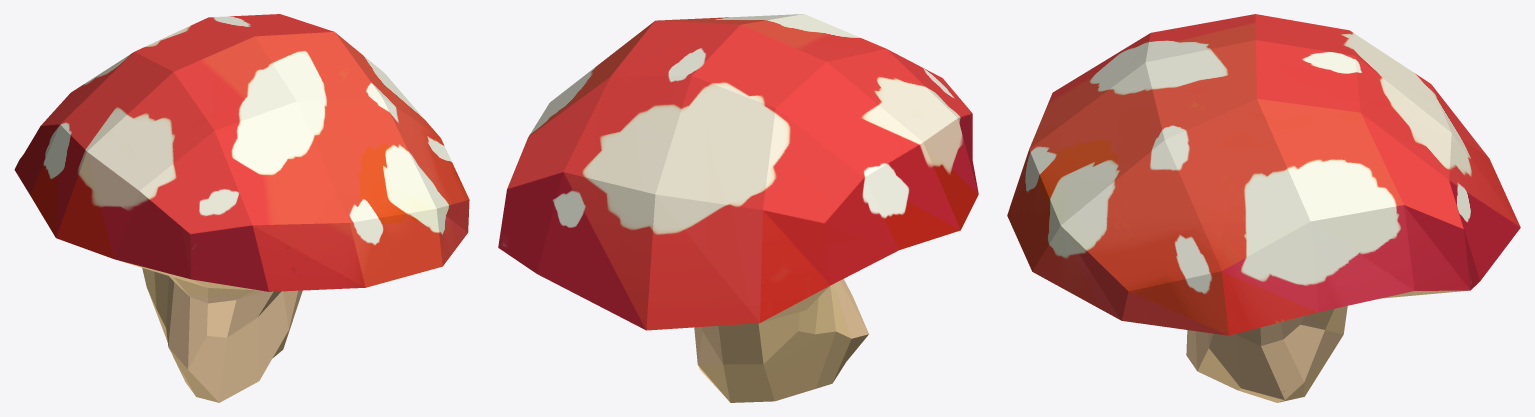
File: mushroom.fbx
3 views of the same model, side by side, from view 1: azimuth 30°, elevation 25°; view 2: azimuth 150°, elevation 25°; view 3: azimuth 270°, elevation 25° (orthographic). The views are drawn at different scales.
Parts seen in each view (by area): view 1: Cube; view 2: Cube; view 3: Cube.
Boxes of the visible parts, <box> form: Cube: <box>14,14,469,402</box>; Cube: <box>498,14,978,402</box>; Cube: <box>1007,14,1520,402</box>.
Bounding box in the file's own units: 210 × 172 × 221.
